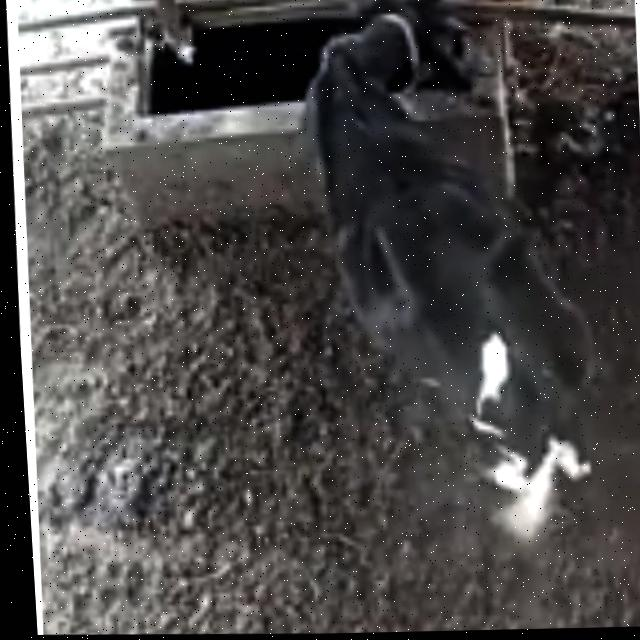drink: (256, 0, 503, 151)
